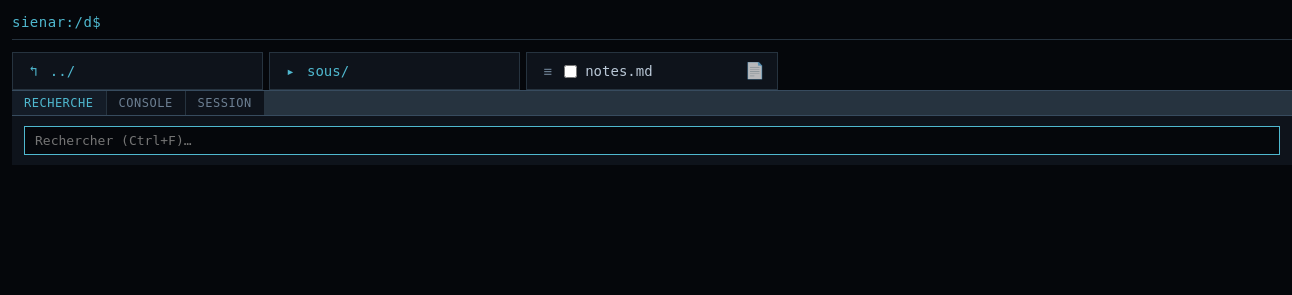
it: FileExplorer.vue - Point 7: Recherche (dock) › surligne dans la liste courante les entrées qui matchent (classe + <mark>)
Type "notes" into the field with class "search-input".
click(652, 140); type("notes")  # box [24,126,1280,155]
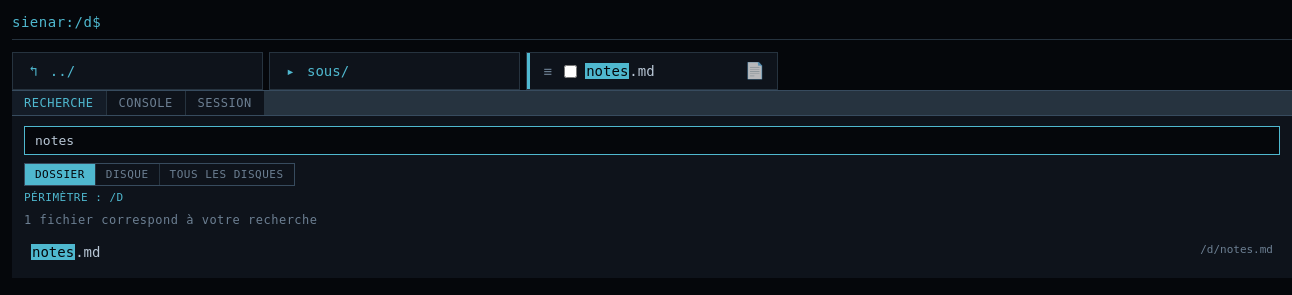
Now the text "notes" in the row of "sous" is shown, box [585,62,629,78]
